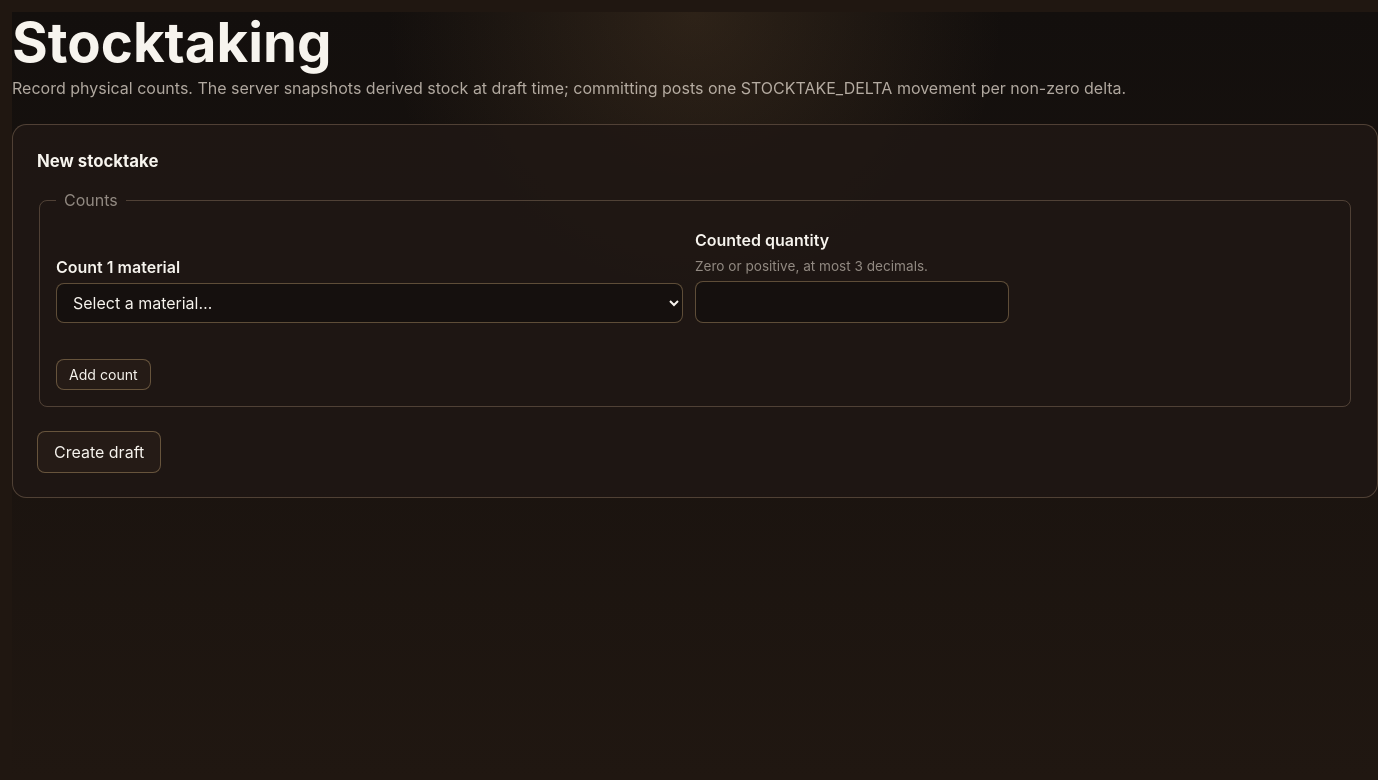
StocktakingPage › creates a draft and shows derived stock and delta per count
This screenshot has width=1378, height=780.
Select "Espresso beans (g)" in the dropdown labelled "Count 1 material" at (370, 303), box x1=56 y1=283 x2=683 y2=323
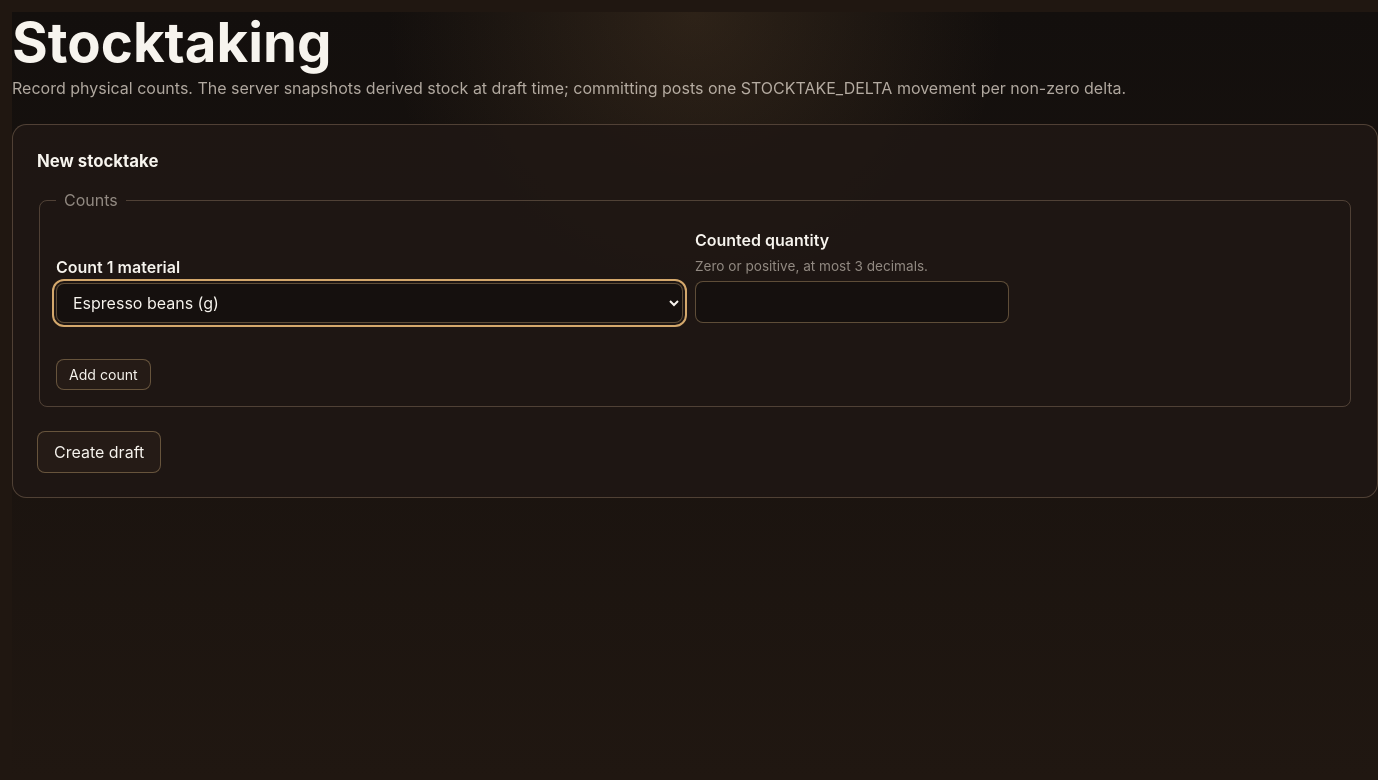
Type "95.000" into the field labelled "Counted quantity" at (852, 302), box x1=695 y1=281 x2=1008 y2=323
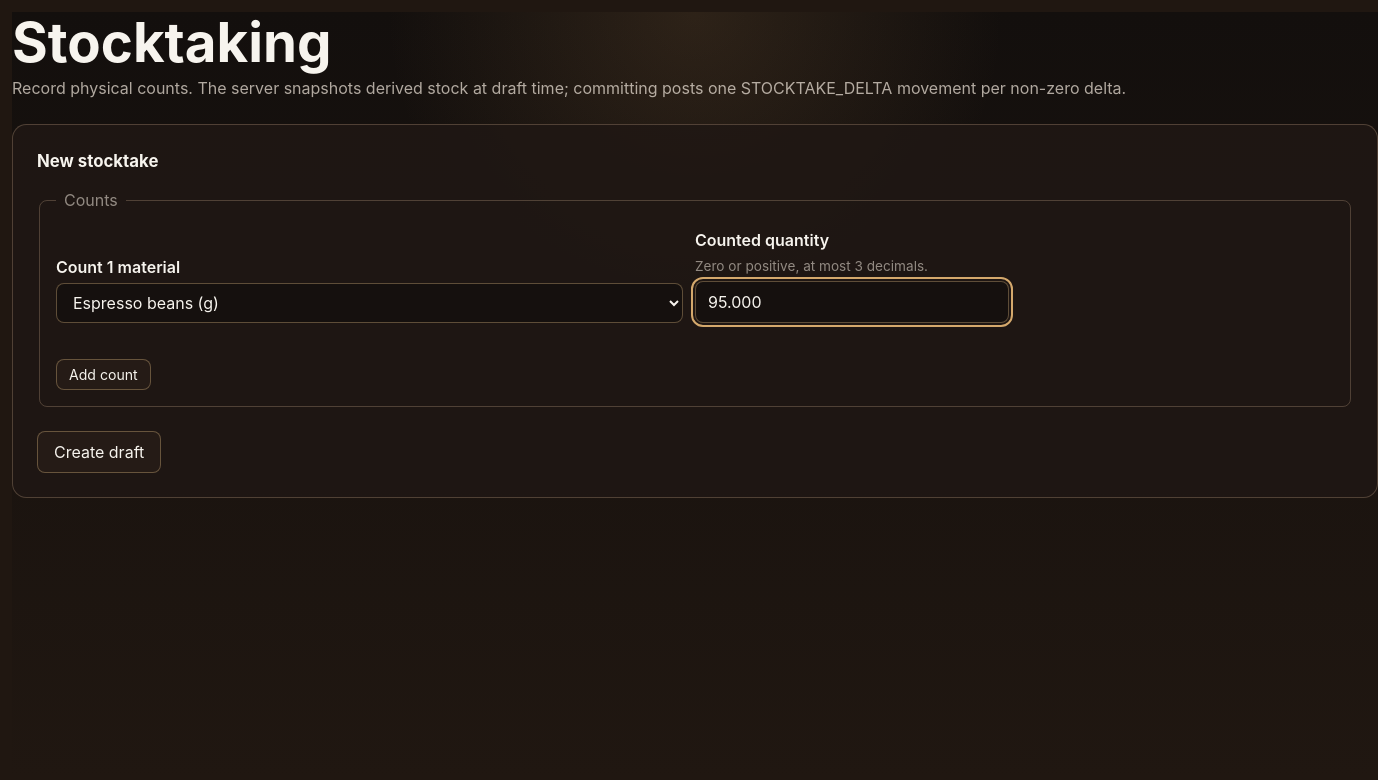
Click the button "Create draft" at (99, 452), box x1=37 y1=431 x2=161 y2=473
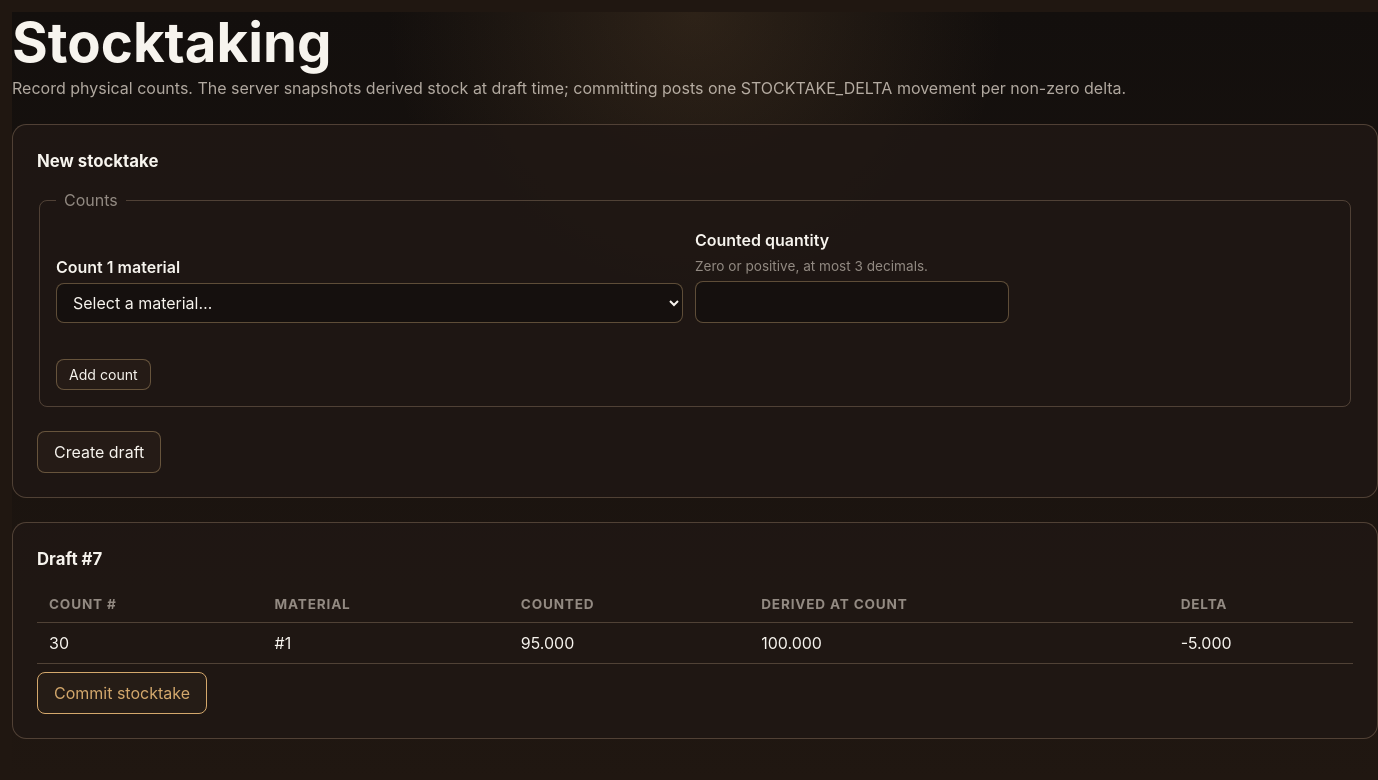
Expected: the heading "Draft #7" is shown, x1=37 y1=549 x2=102 y2=569
Expected: the text "100.000" is shown, x1=749 y1=623 x2=1169 y2=664
Expected: the text "-5.000" is shown, x1=1169 y1=623 x2=1353 y2=664
